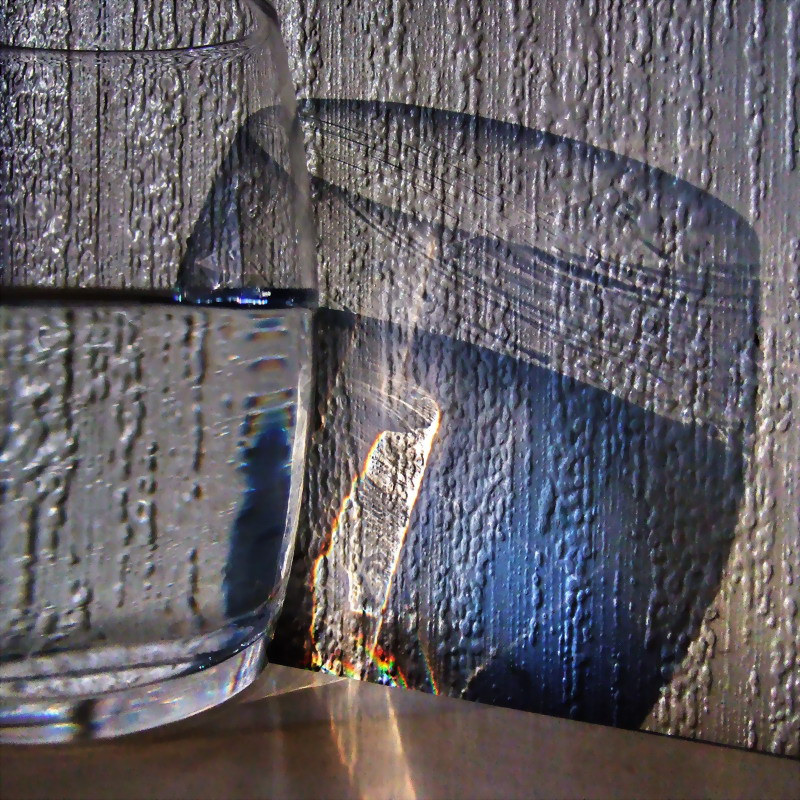glass of water: (1, 8, 303, 746)
